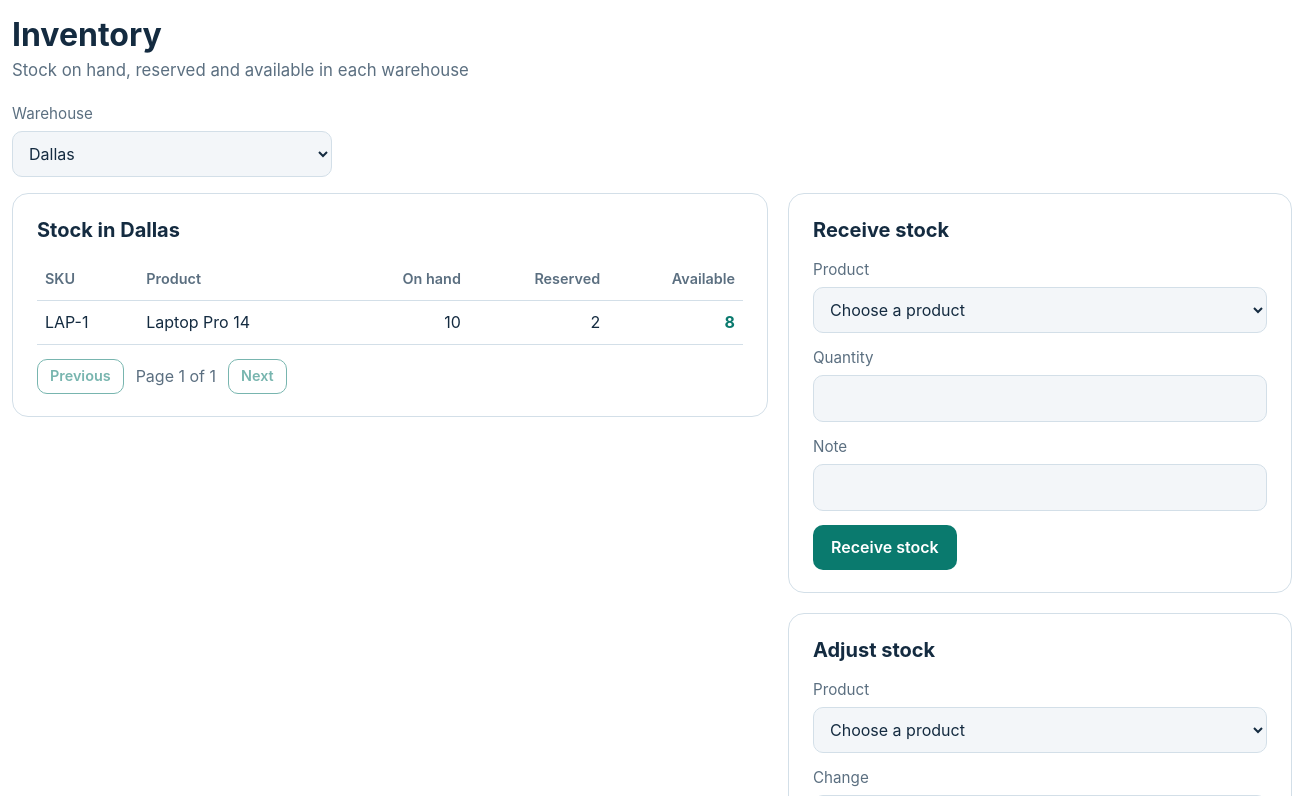
InventoryPage stock view › loads the stock of another warehouse when it is selected
The width and height of the screenshot is (1292, 796).
Expected: the text "LAP-1" is shown, [37,300,138,344]
Select "Seattle" in the dropdown labelled "Warehouse" at (172, 154), box [12,131,332,177]
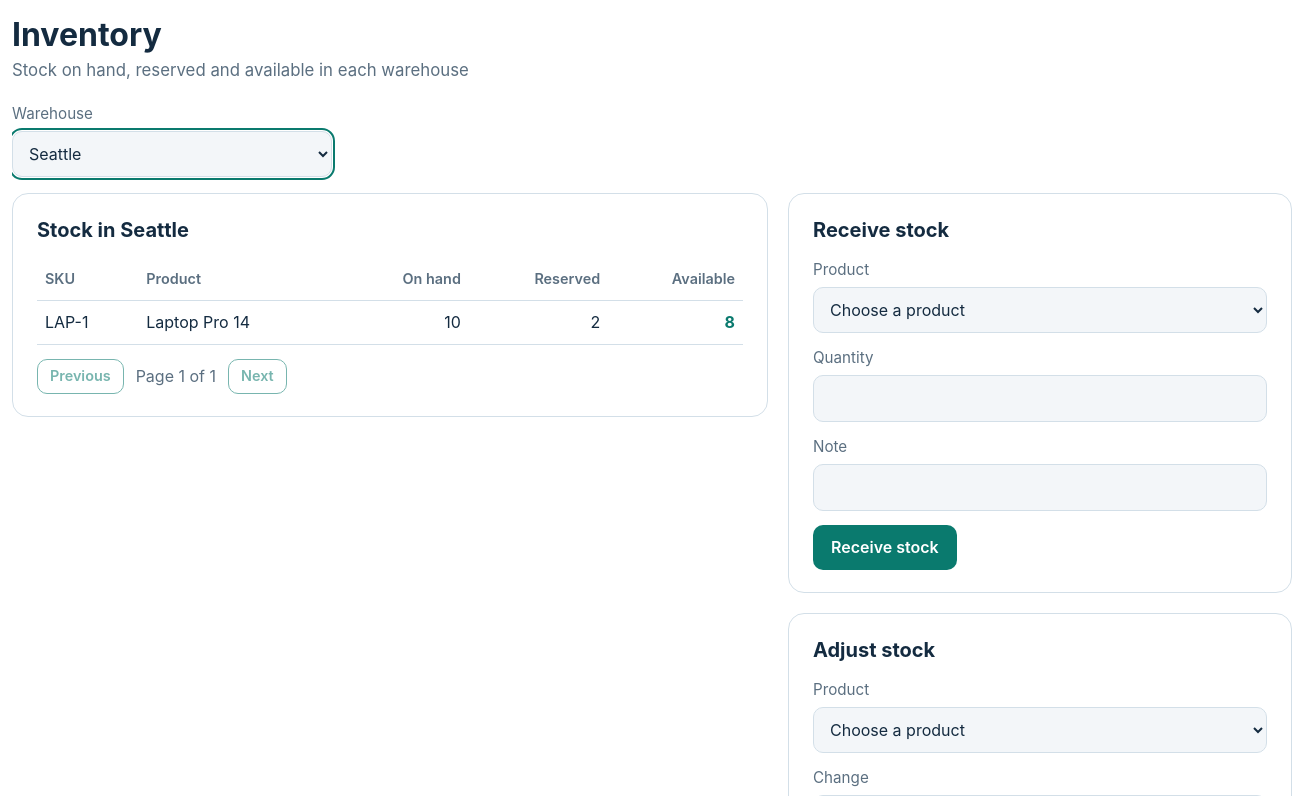
Expected: the element "Stock in Seattle" is shown, [12,193,768,417]
